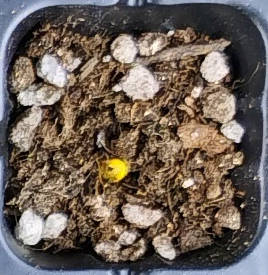pepper seed: (35, 66, 164, 250)
